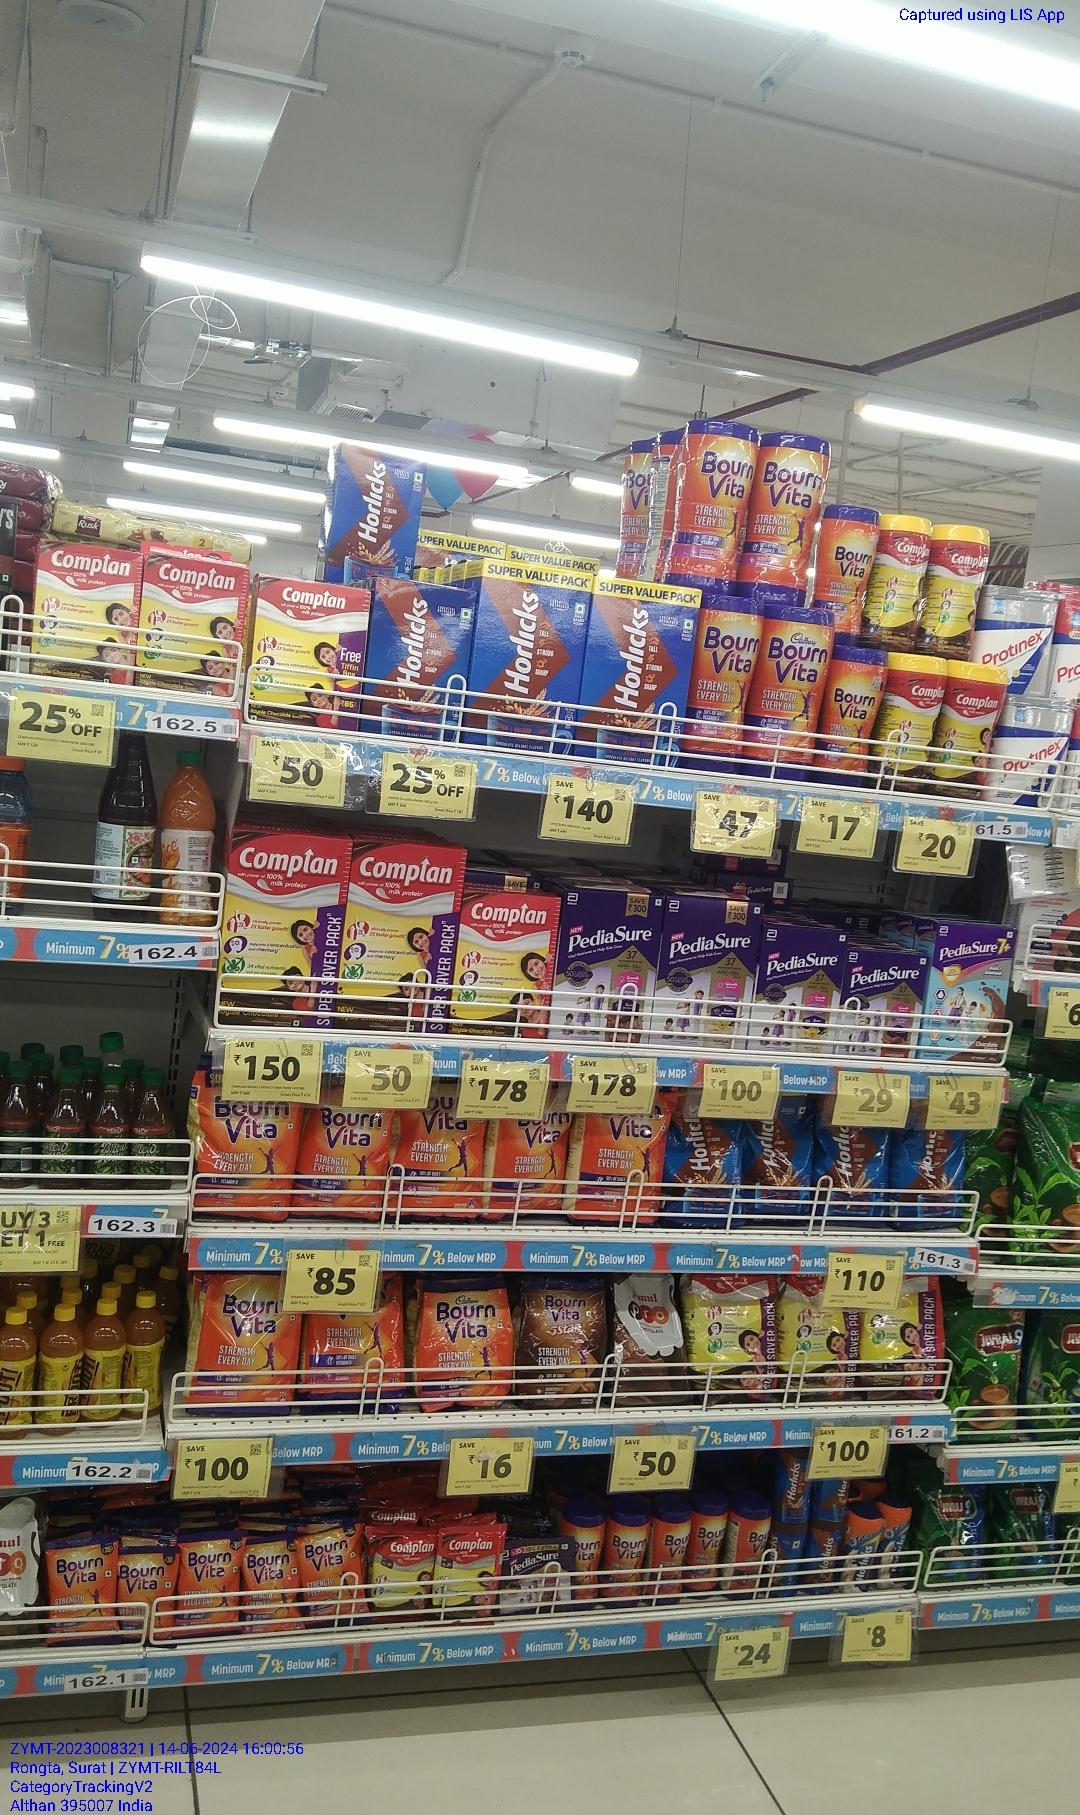BOURN_VITA_1_KG_JAR: (748, 429, 824, 605), (674, 418, 751, 586), (757, 604, 824, 779), (687, 593, 748, 769)
BOURN_VITA_200_G_JAR: (828, 638, 885, 788), (825, 501, 876, 634), (604, 1515, 647, 1608), (652, 1517, 687, 1605), (690, 1507, 724, 1598)
BOURN_VITA_500_G_POUCH: (194, 1095, 301, 1222), (195, 1274, 288, 1410), (420, 1280, 510, 1410), (302, 1105, 393, 1220), (575, 1112, 663, 1225), (399, 1108, 485, 1222), (491, 1114, 567, 1228)
BOURN_VITA_75_G_POUCH: (45, 1540, 116, 1643), (180, 1533, 242, 1635), (118, 1542, 177, 1645), (305, 1527, 365, 1627), (246, 1532, 298, 1632)
BOURN_VITA_FIVE_STAR_MAGIC_500_G_POUCH: (518, 1275, 606, 1410)
COMPLAN_CHOCOLATE_1_KG_PACK: (216, 827, 346, 1032), (345, 838, 459, 1035)
COMPLAN_CHOCOLATE_200_GMS_JAR: (933, 526, 989, 662), (946, 662, 998, 801), (888, 650, 937, 793), (879, 512, 928, 648)
COMPLAN_CHOCOLATE_200_GMS_PACK: (257, 573, 366, 731), (141, 553, 253, 701), (32, 539, 139, 685), (462, 882, 557, 1040)
COMPLAN_RC_POUCH_700_GMS_12: (690, 1275, 780, 1406), (865, 1278, 944, 1404), (786, 1274, 860, 1401)
HORLICK_CHOCOLATE_750_G_POUCH: (669, 1112, 742, 1231), (747, 1113, 814, 1228), (892, 1127, 964, 1228), (819, 1125, 887, 1229)
HORLICK_CLASSIC_MALT_200_G_JAR: (842, 1510, 878, 1593)
PEDIASURE_7_PLUS_CHOCOLATE_400_G_PACK: (923, 920, 1016, 1063)
PEDIASURE_CHOCOLATE_500_G_PACK: (559, 886, 651, 1044), (843, 947, 923, 1060)
PEDIASURE_VANILLA_500_G_PACK: (652, 893, 752, 1050), (757, 923, 841, 1054)
PROTINEX_ORIGINAL_400_G_JAR: (993, 586, 1063, 699), (1005, 699, 1072, 807)
